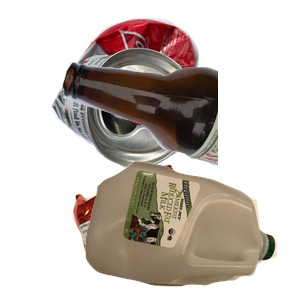glass: (60, 59, 300, 217)
metal: (48, 15, 251, 175)
plastic: (83, 159, 300, 300)
trash: (70, 162, 257, 300)
